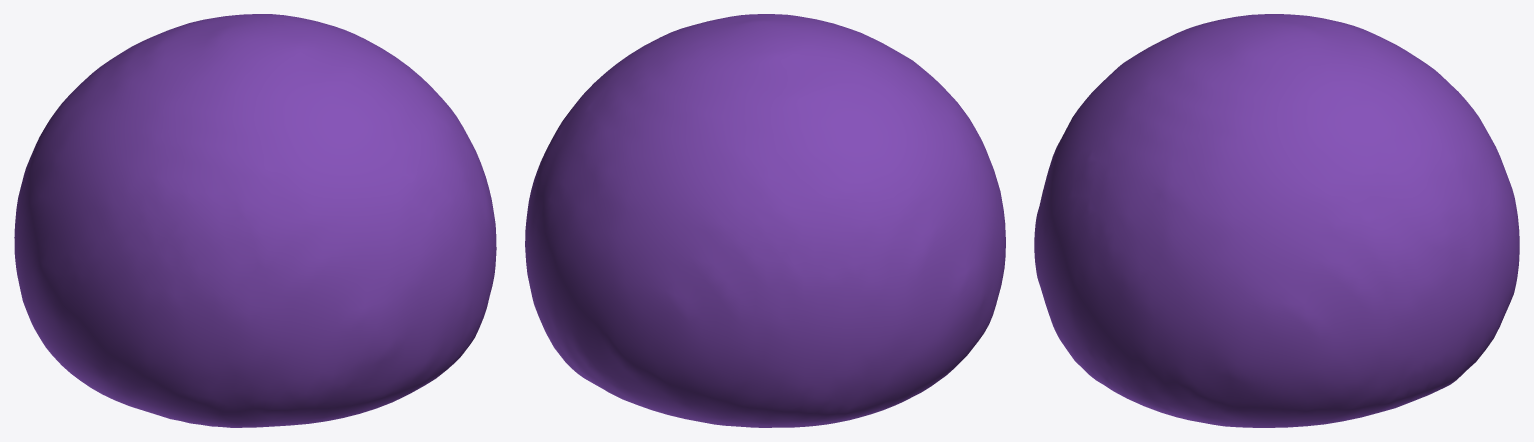
The model's file is slime_0002.dae.
3 views of the same model, side by side, from view 1: azimuth 30°, elevation 25°; view 2: azimuth 150°, elevation 25°; view 3: azimuth 270°, elevation 25° (orthographic).
Parts seen in each view (by area): view 1: Slime; view 2: Slime; view 3: Slime.
Boxes of the visible parts, x1,y1,x2,y2 form: Slime: (14,14,496,427); Slime: (525,14,1005,427); Slime: (1034,14,1519,427).
Bounding box in the file's own units: 2.06 × 1.55 × 2.06.
